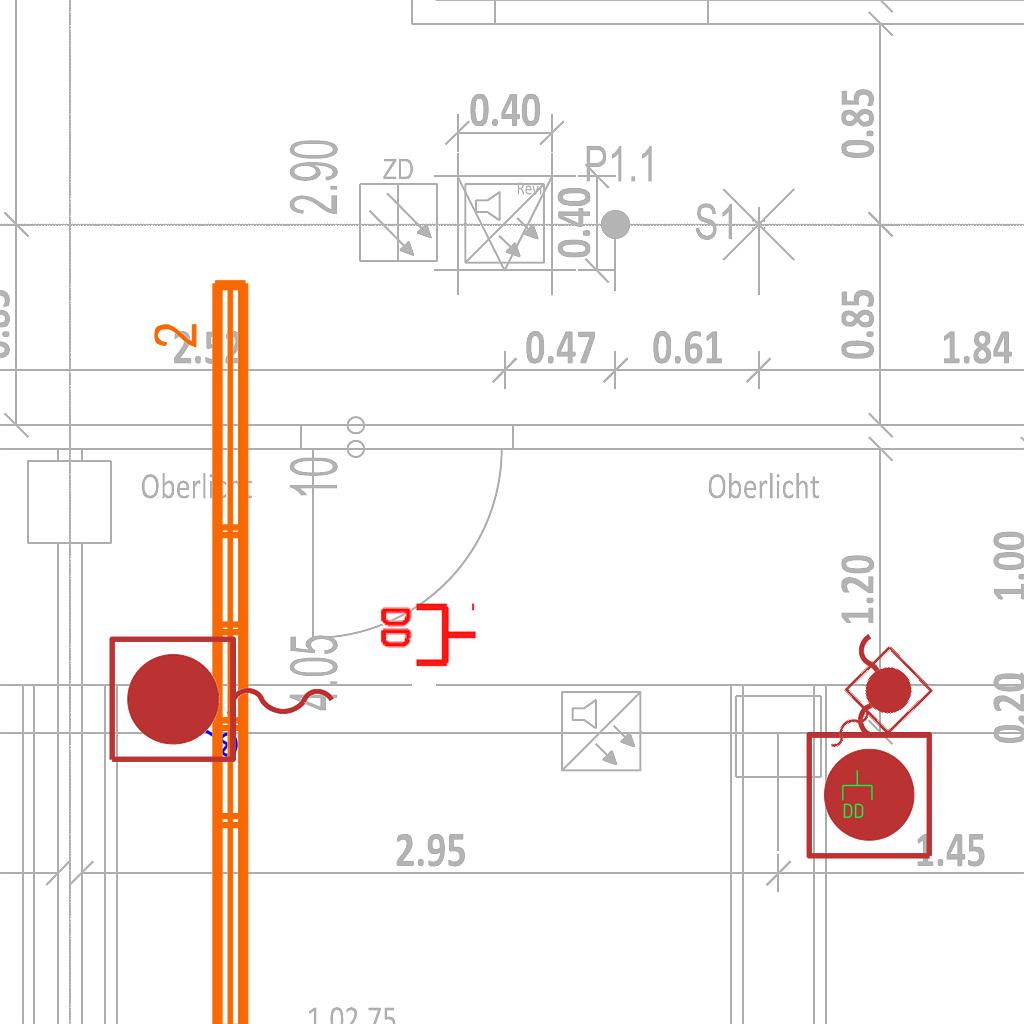Ambulanz_Pendelleuchte_LED: (149, 271, 261, 1024)
Ausschalter_beleuchtet: (191, 708, 239, 764)
Datenanschluss_zweifach: (376, 602, 479, 671), (840, 769, 874, 820)
Zugtaster: (799, 623, 943, 867), (101, 629, 345, 773), (801, 638, 939, 776)
